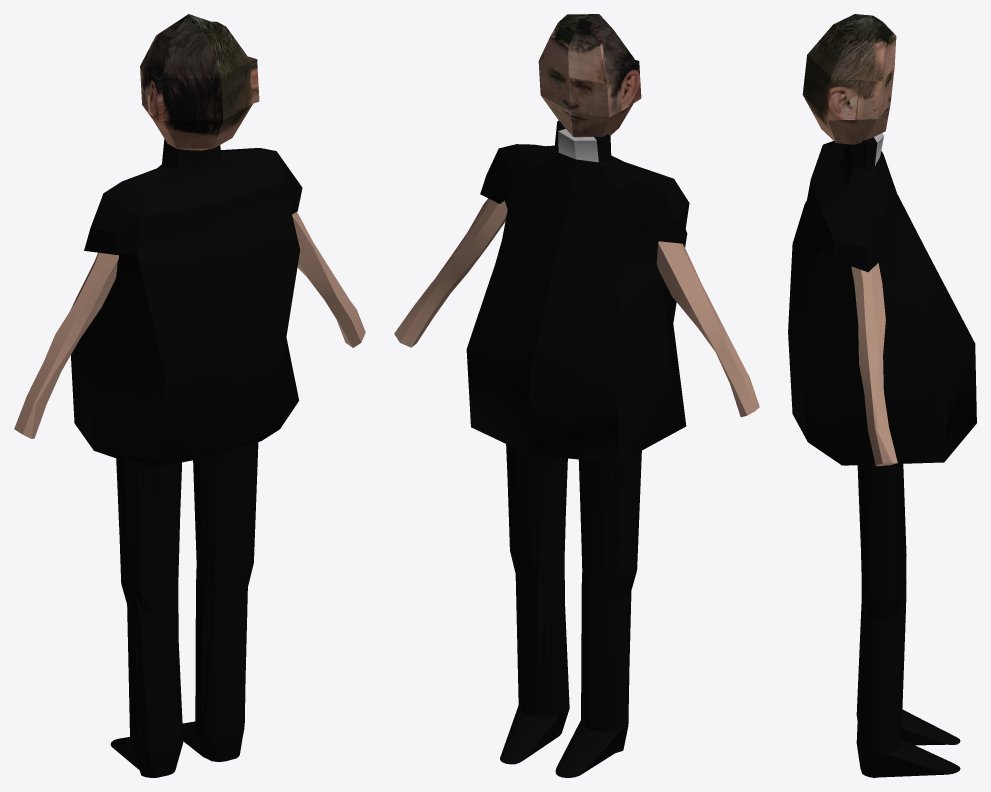
The model's file is priest.fbx.
3 views of the same model, side by side, from view 1: azimuth 30°, elevation 25°; view 2: azimuth 150°, elevation 25°; view 3: azimuth 270°, elevation 25° (orthographic). The views are drawn at different scales.
Parts seen in each view (by area): view 1: pCylinder17, pCylinder16, pSphere5, pCylinder18, pCylinder19; view 2: pCylinder17, pCylinder16, pSphere5, pCylinder18, pCylinder19; view 3: pCylinder17, pCylinder16, pSphere5, pCylinder19.
Boxes of the visible parts, box(x1,y1,x2,y2) form: pCylinder17: box(71, 139, 302, 469); pCylinder16: box(110, 442, 258, 777); pSphere5: box(140, 14, 259, 150); pCylinder18: box(14, 252, 118, 438); pCylinder19: box(292, 212, 365, 347); pCylinder17: box(466, 120, 689, 463); pCylinder16: box(500, 444, 641, 777); pSphere5: box(538, 14, 641, 137); pCylinder18: box(656, 241, 759, 417); pCylinder19: box(394, 198, 507, 347); pCylinder17: box(788, 133, 976, 465); pCylinder16: box(856, 463, 960, 777); pSphere5: box(802, 14, 896, 144); pCylinder19: box(851, 263, 897, 466).
Bounding box in the file's own units: 1.45 × 2.88 × 0.6655.
